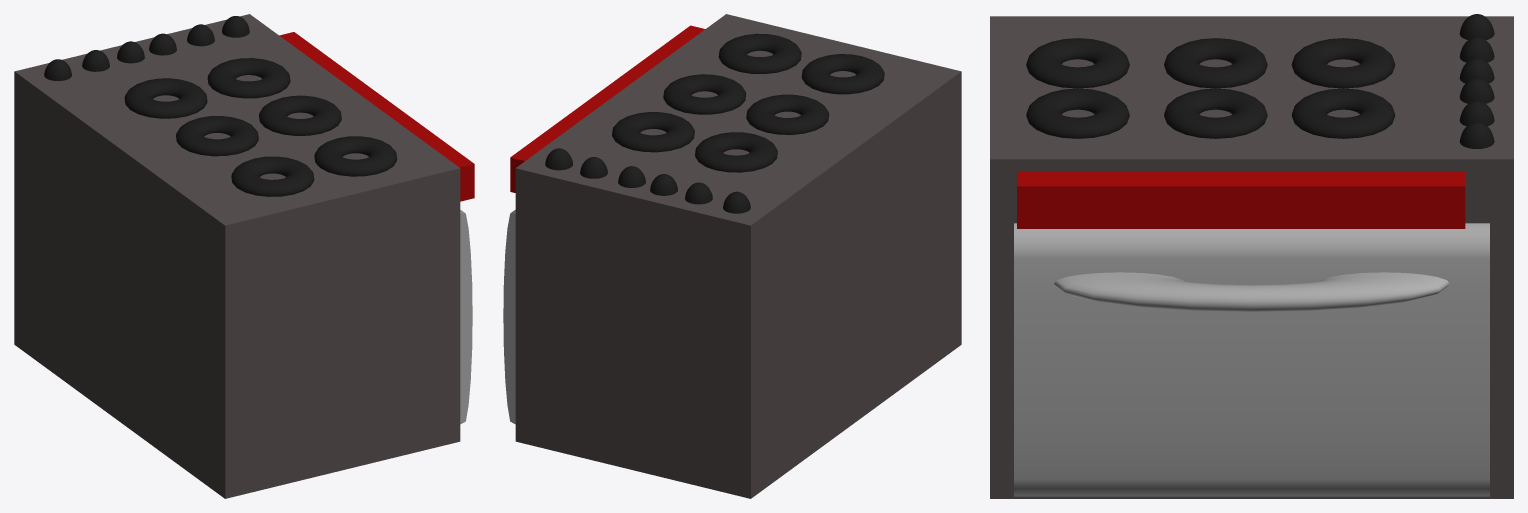
File: oven.fbx
3 views of the same model, side by side, from view 1: azimuth 30°, elevation 25°; view 2: azimuth 150°, elevation 25°; view 3: azimuth 270°, elevation 25° (orthographic). The views are drawn at different scales.
Parts seen in each view (by area): view 1: pCube1, pasted__pTorus1 (×3), pasted__pasted__pTorus1 (×2), pCube2, pTorus1, pCylinder1; view 2: pCube1, pasted__pTorus1 (×3), pasted__pasted__pTorus1 (×2), pCube2, pTorus1, pCylinder1; view 3: pCylinder1, pCube1, pCube2, pasted__pTorus1 (×3), pTorus2, pasted__pasted__pTorus1 (×2), pTorus1, pasted__pSphere1 (×2), pasted__pasted__pSphere1 (×2), pasted__pasted__pasted__pSphere1, pSphere1.
Boxes of the visible parts, <box> form: pCube1: <box>14,14,460,498</box>; pasted__pTorus1 (×3): <box>207,58,341,196</box>; pasted__pasted__pTorus1 (×2): <box>124,78,258,156</box>; pCube2: <box>279,32,474,201</box>; pTorus1: <box>314,136,397,176</box>; pCylinder1: <box>460,210,472,424</box>; pCube1: <box>515,14,961,498</box>; pasted__pTorus1 (×3): <box>612,54,884,152</box>; pasted__pasted__pTorus1 (×2): <box>695,94,829,172</box>; pCube2: <box>510,25,705,192</box>; pTorus1: <box>718,33,801,73</box>; pCylinder1: <box>503,210,515,424</box>; pCylinder1: <box>1014,223,1489,496</box>; pCube1: <box>990,16,1513,498</box>; pCube2: <box>1017,171,1465,228</box>; pasted__pTorus1 (×3): <box>1026,38,1395,138</box>; pTorus2: <box>1054,272,1449,311</box>; pasted__pasted__pTorus1 (×2): <box>1164,38,1395,88</box>; pTorus1: <box>1026,88,1129,138</box>; pasted__pSphere1 (×2): <box>1459,37,1494,148</box>; pasted__pasted__pSphere1 (×2): <box>1459,58,1494,103</box>; pasted__pasted__pasted__pSphere1: <box>1459,14,1494,39</box>; pSphere1: <box>1459,100,1494,126</box>.
Size of the model in its own units: 6.42 by 6.04 by 8.
